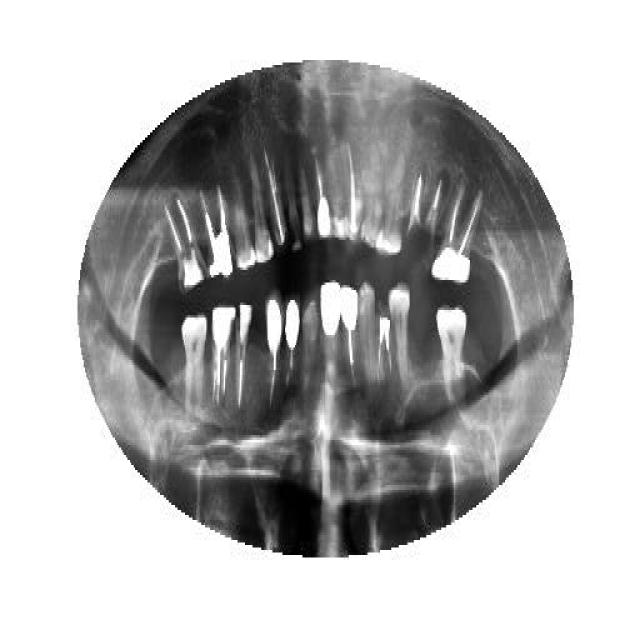Cavity: (404, 170, 441, 278), (373, 285, 392, 383)
Fillings: (320, 282, 341, 400)
Implant: (433, 185, 485, 287), (160, 195, 206, 293), (200, 185, 236, 283), (210, 305, 236, 413), (264, 293, 284, 415), (232, 302, 254, 410), (264, 148, 286, 248), (340, 282, 359, 392), (344, 138, 361, 248), (313, 153, 332, 245), (284, 295, 300, 393), (377, 285, 392, 385)
